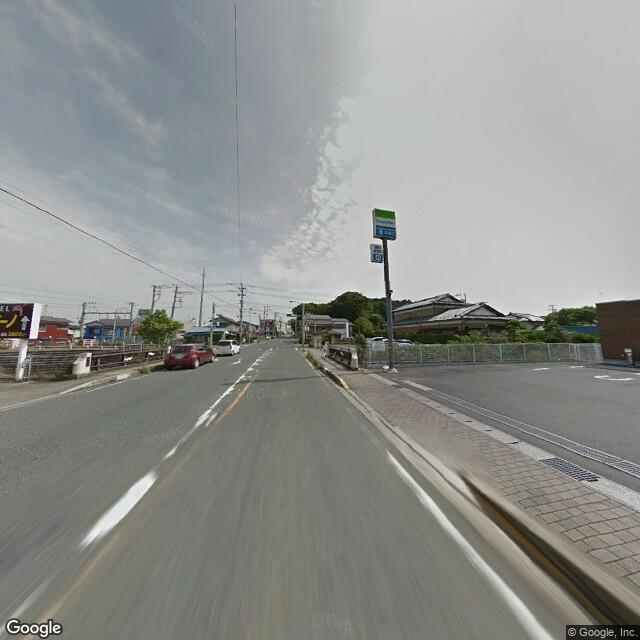family_mart: (373, 208, 399, 238)
